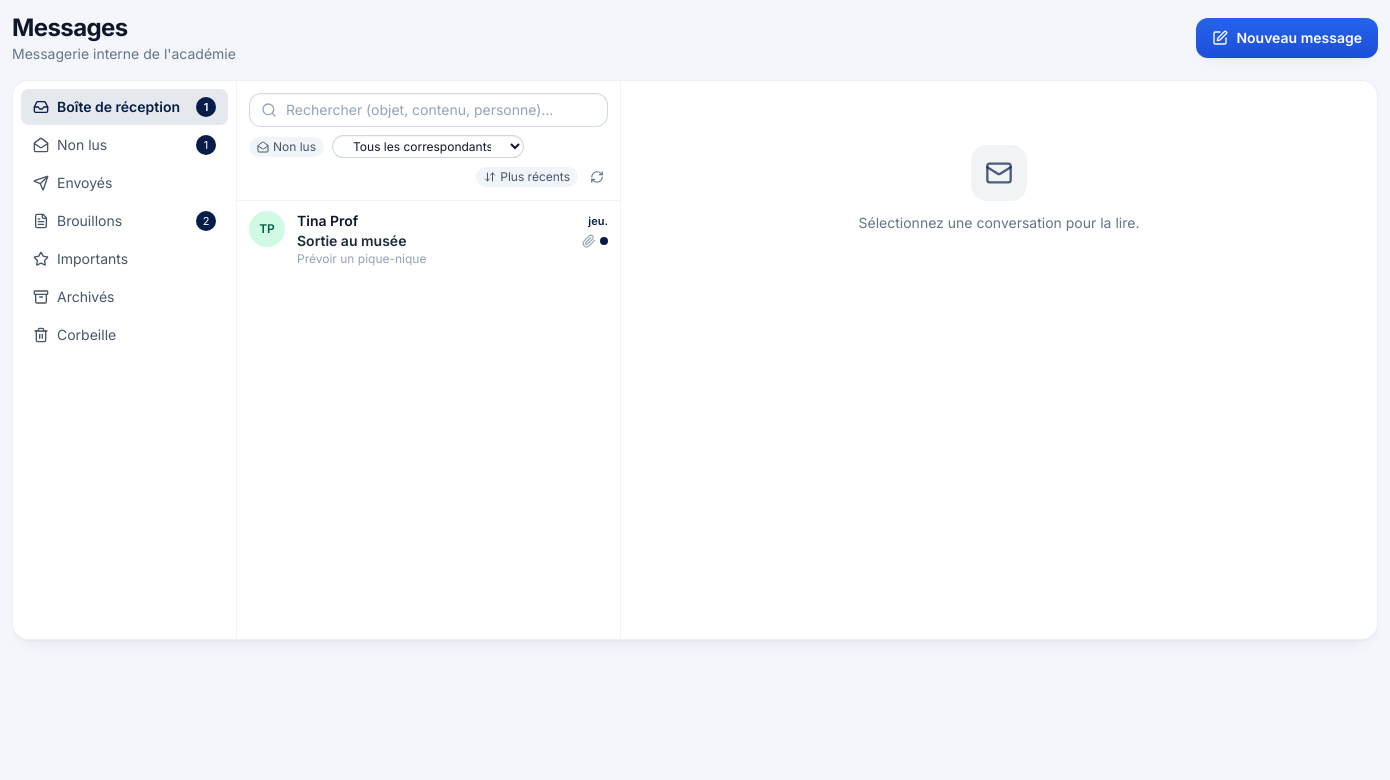
Scenario: messagerie interne › liste : non lu, importance, pièce jointe, compteurs ; ouvrir marque comme lu et affiche les pièces jointes
Check: the element with test id "non-lu" is shown, box [600,237,608,245]
Check: the icon named "Pièces jointes" is shown, box [582,234,596,248]
Click the button with test id "conversation-7" at [267, 229], box [237,201,620,277]
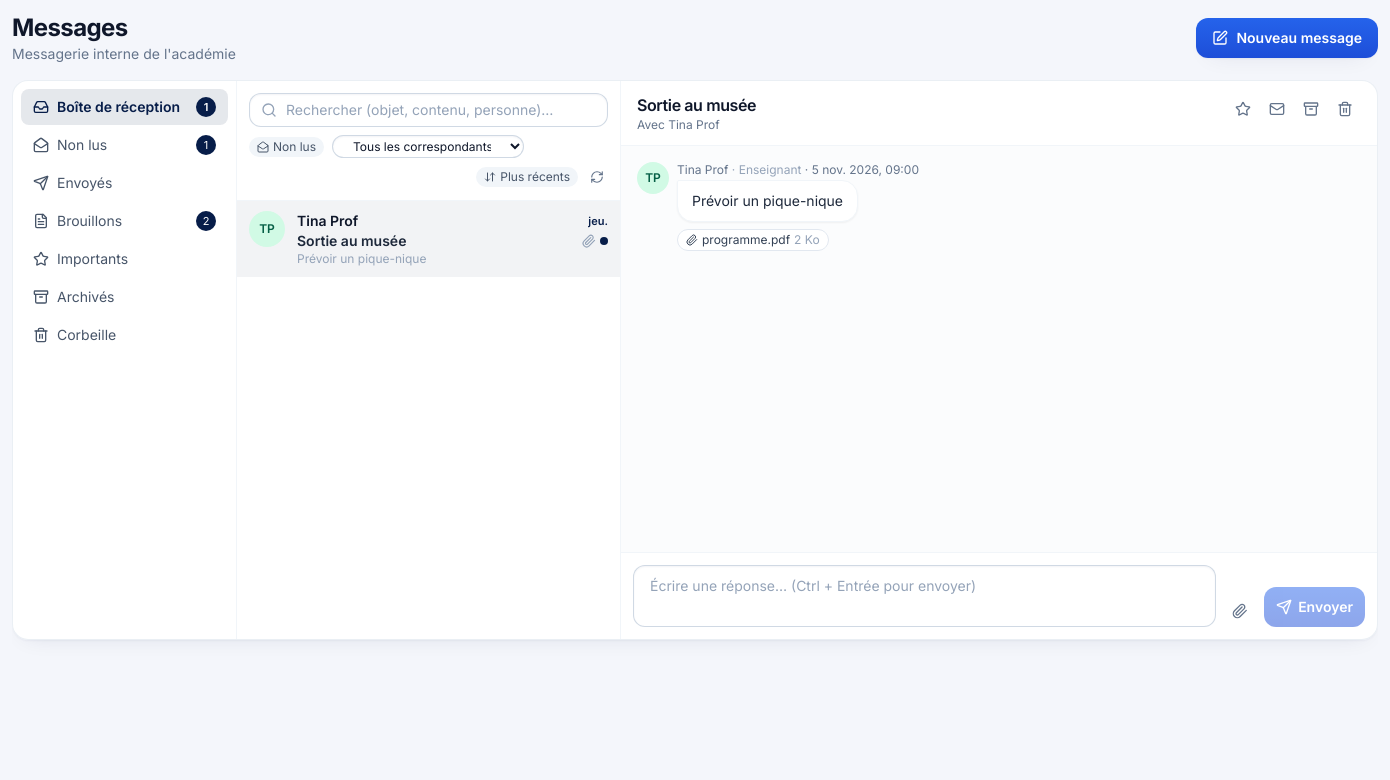
Check: the heading with test id "fil-objet" reads "Sortie au musée", box [637,95,756,115]
